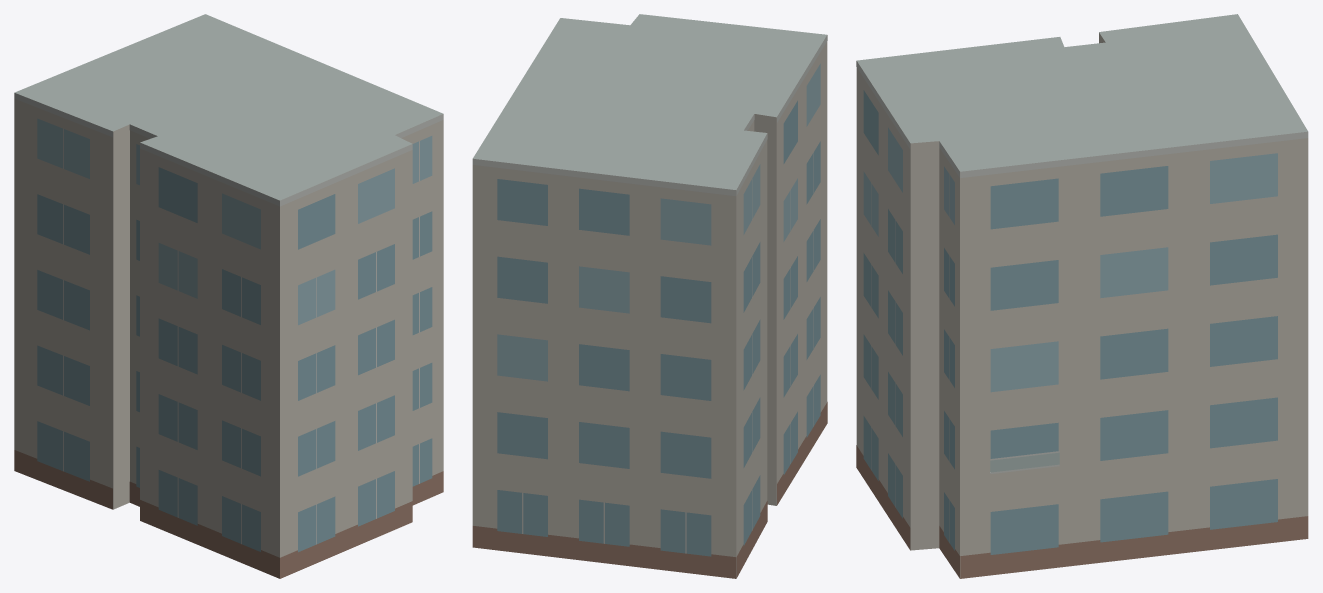
File: survey-upis-32721329.glb
3 renders of one model, left to right at view 1: azimuth 30°, elevation 25°; view 2: azimuth 150°, elevation 25°; view 3: azimuth 270°, elevation 25°, orthographic. The views are drawn at different scales.
Parts seen in each view (by area): view 1: survey-upis-32721329.tmp; view 2: survey-upis-32721329.tmp; view 3: survey-upis-32721329.tmp.
Boxes of the visible parts, x1,y1,x2,y2 form: survey-upis-32721329.tmp: (14,14,443,578); survey-upis-32721329.tmp: (472,14,827,578); survey-upis-32721329.tmp: (856,14,1308,578).
Size of the model in its own units: 12.93 by 15.55 by 15.65.
